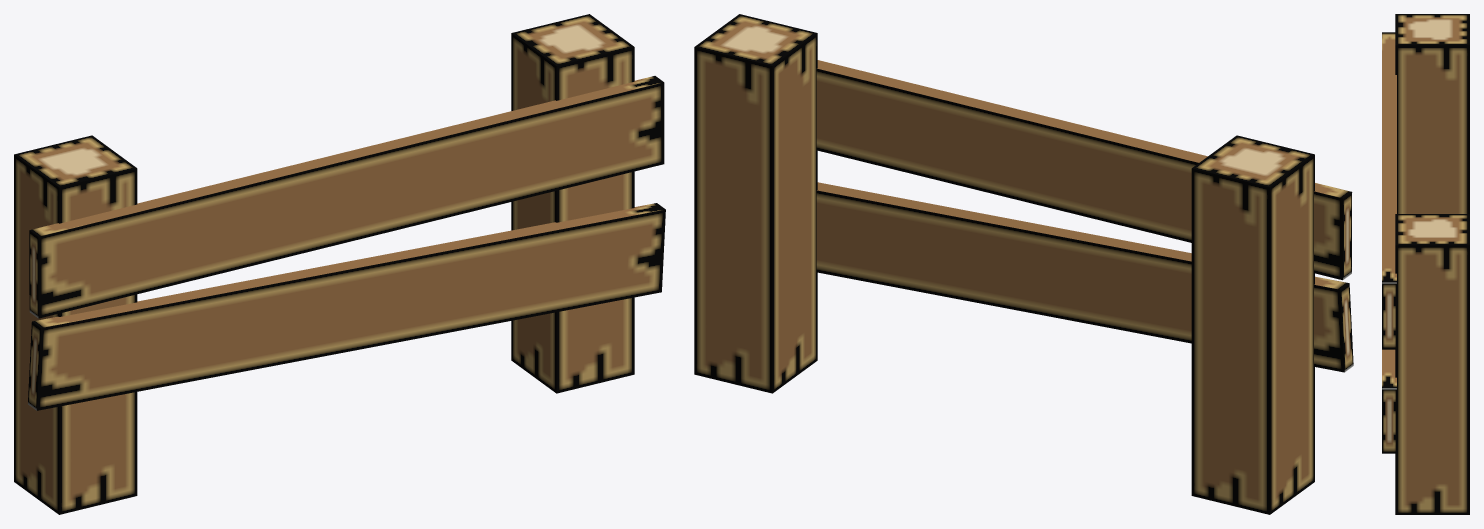
The model's file is deco_fenceLarge.FBX.
The picture shows the model from 3 angles, left to right: view 1: azimuth 30°, elevation 25°; view 2: azimuth 150°, elevation 25°; view 3: azimuth 270°, elevation 25°; orthographic projection. The views are drawn at different scales.
Parts seen in each view (by area): view 1: deco_fenceLarge; view 2: deco_fenceLarge; view 3: deco_fenceLarge.
Part boxes in pixels (x1,y1,x2,y2): deco_fenceLarge: (14,14,665,514); deco_fenceLarge: (694,14,1353,514); deco_fenceLarge: (1382,14,1469,514).
Bounding box in the file's own units: 4.02 × 2 × 0.5898.
Materials: 1 (1 with a texture image).
